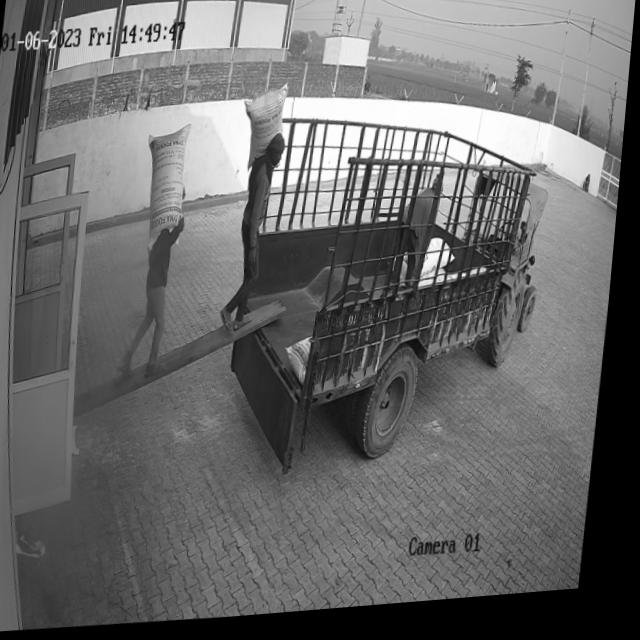sack: (140, 126, 193, 255), (240, 87, 289, 174)
